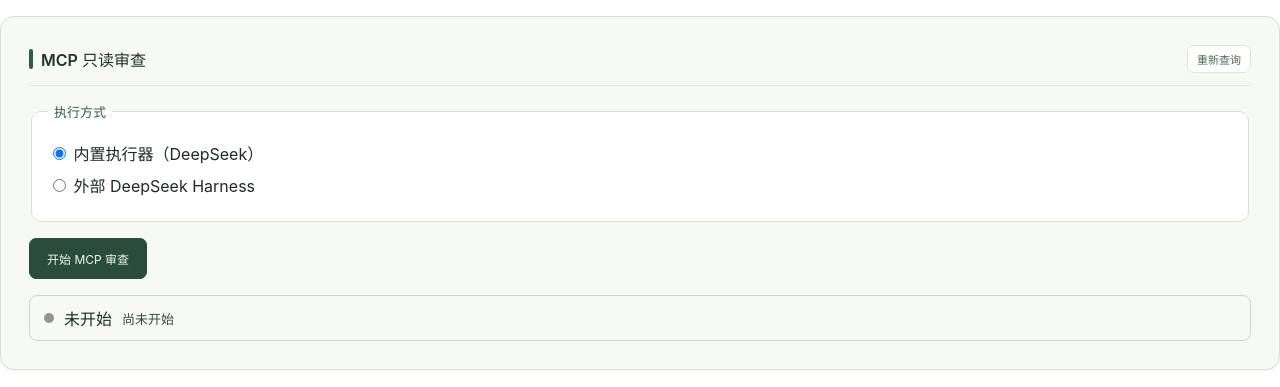
Scenario: MCP 审查状态 › 启动结果未知后只查询状态，断线恢复也不重发启动
Click the button "开始 MCP 审查" at {"x": 88, "y": 258}, box [29,238,147,279]
Wait 11000 ms
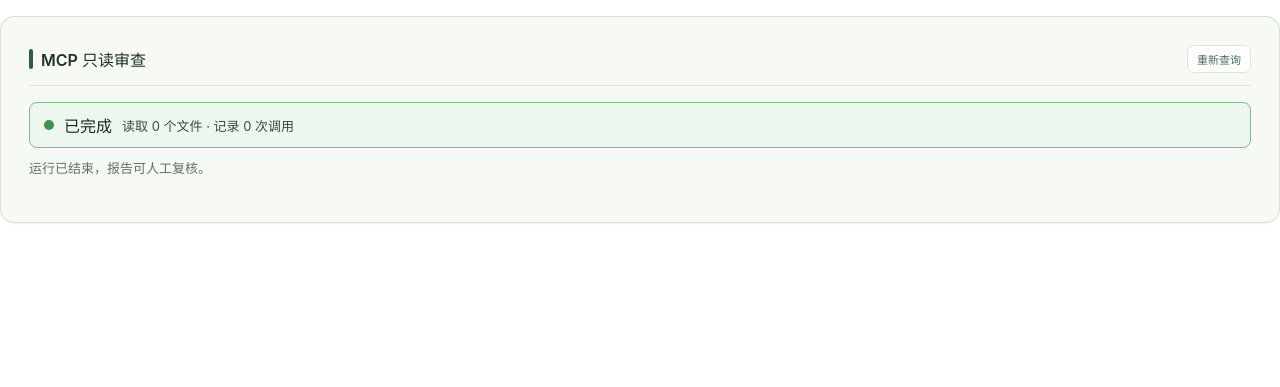
expect the text "已完成" is shown: met, box [64,113,112,137]
